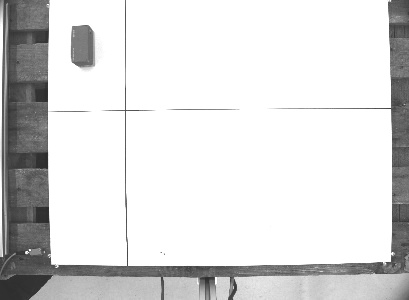b3: (68, 22, 98, 69)
